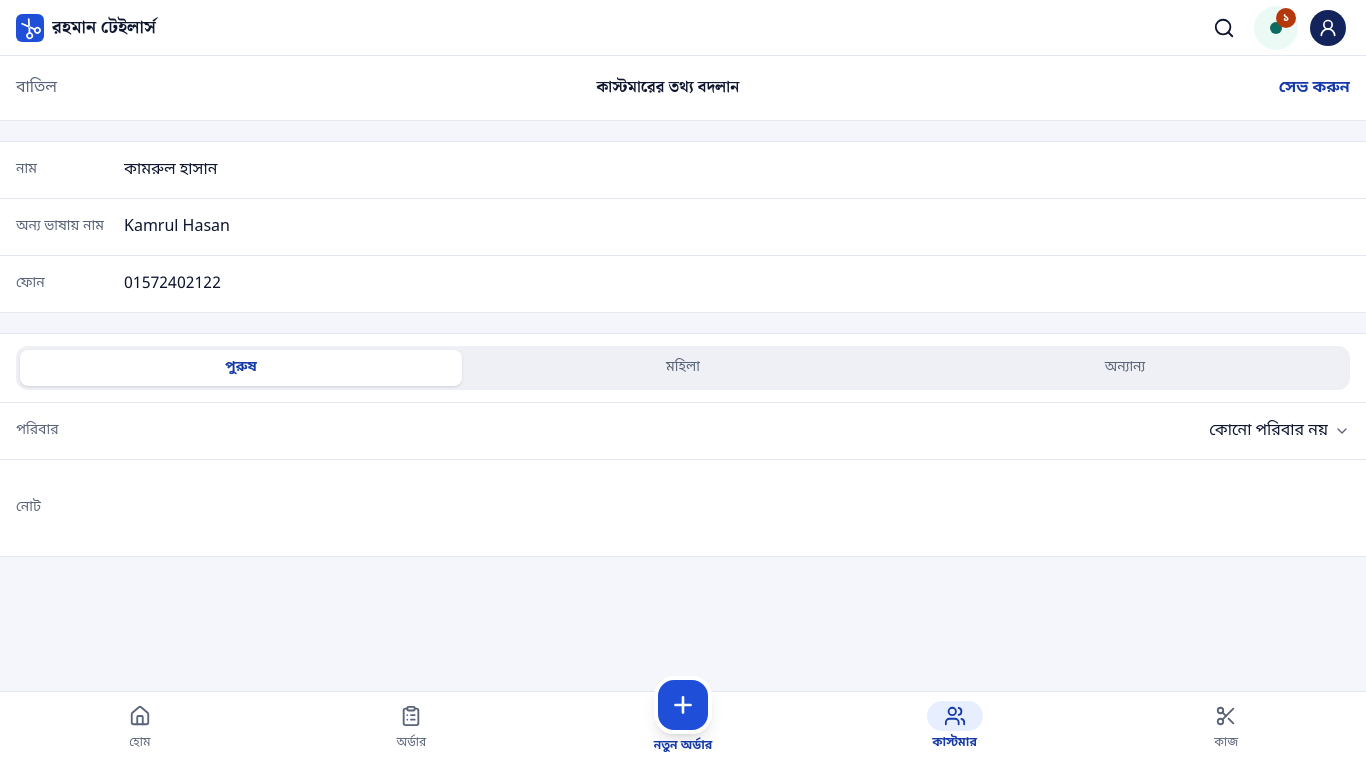
Test: Customer form on a phone › edits a customer and Cancel in the header goes back to the profile
The width and height of the screenshot is (1366, 768).
Check: the field labelled "নাম" holds "কামরুল হাসান", box [124,146,1350,194]
Type "ঢিলা ফিটিং" into the text box labelled "নোট". click: point(737, 508)
box: [124,460,1350,556]
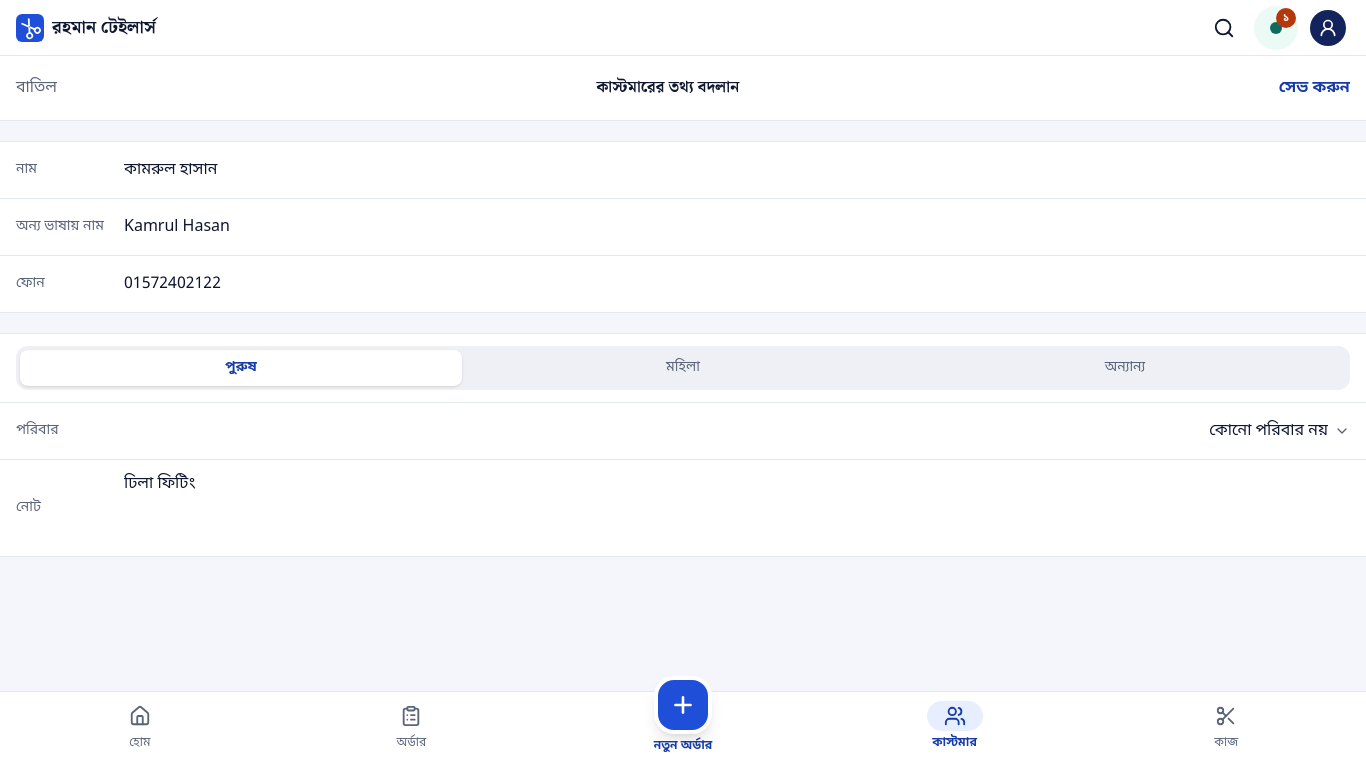
Click the button "সেভ করুন". click: point(1314, 88)
box: [1279,68,1350,108]
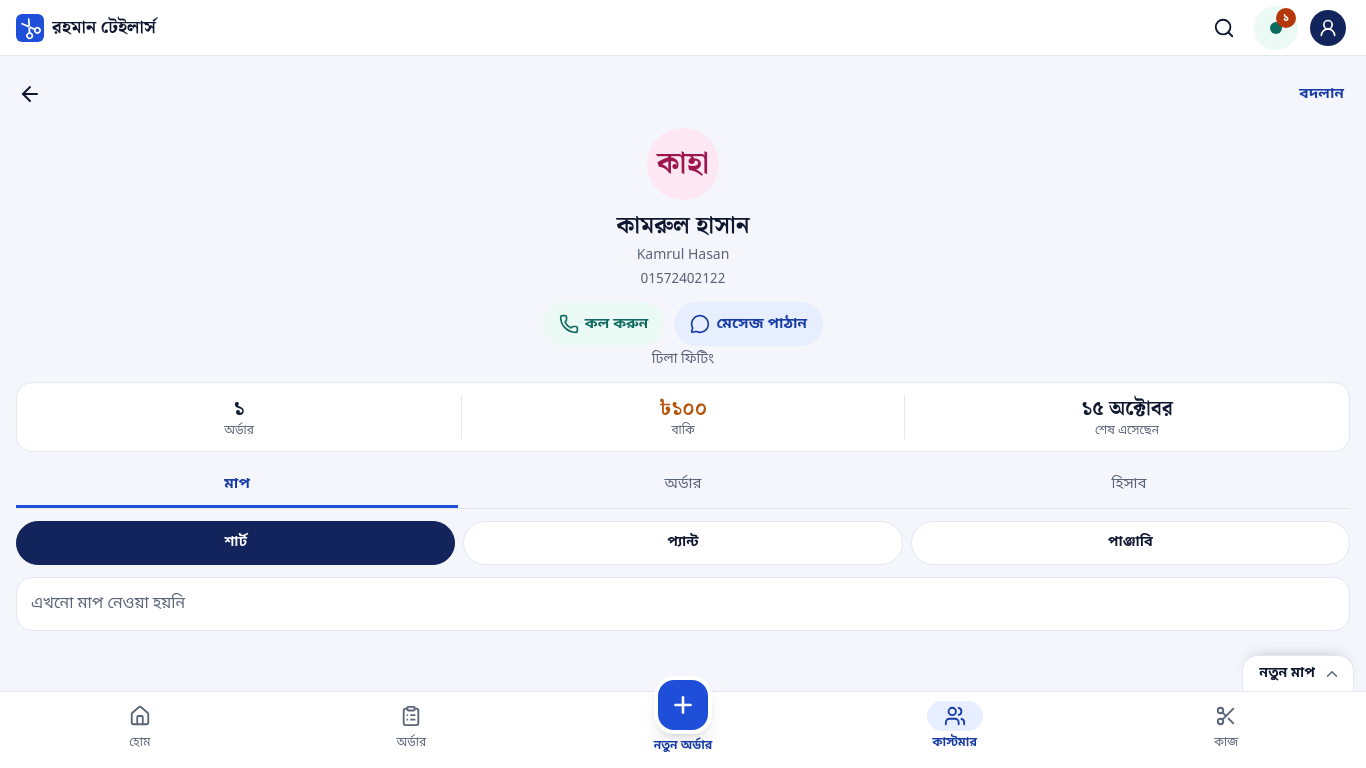
Check: the text "ঢিলা ফিটিং" is shown, box [652,350,714,370]
